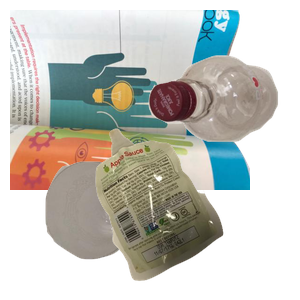glass: (43, 159, 187, 300)
paper: (10, 10, 250, 190)
plastic: (146, 53, 300, 187)
trash: (93, 126, 300, 300)
